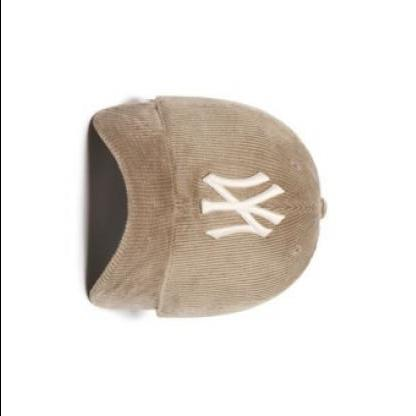cap: (74, 66, 344, 351)
